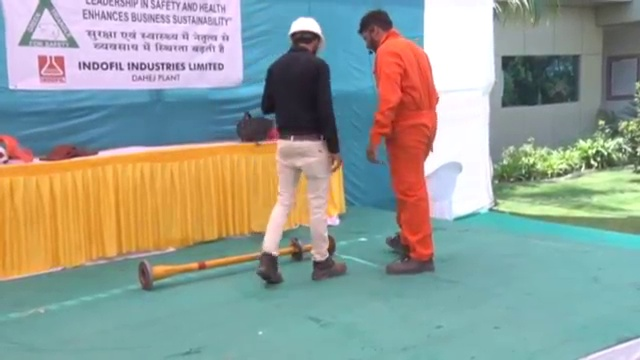helmet: (287, 17, 328, 48)
helmet_off: (355, 10, 395, 57)
helmet_on: (285, 16, 328, 55)
person: (252, 17, 350, 283), (358, 10, 440, 273)
